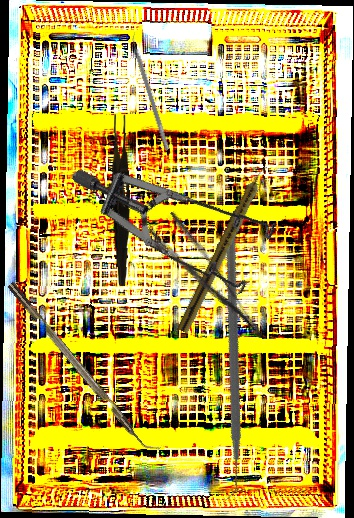Chopper: (99, 233, 353, 505), (7, 274, 162, 460)
Dressing Forceps: (147, 209, 266, 354), (107, 113, 135, 287)
Handpiece: (176, 162, 272, 336)
Spatula Surgical: (127, 31, 175, 151)
Speculum: (70, 96, 298, 337)
